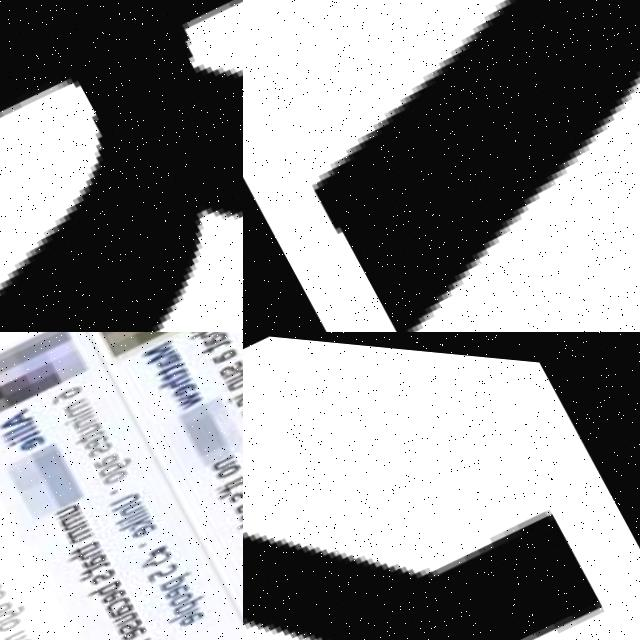1: (147, 553, 182, 580)
2: (49, 378, 82, 404)
A: (0, 401, 33, 433), (78, 543, 110, 570), (207, 336, 238, 363), (106, 593, 137, 618), (91, 443, 121, 467), (156, 344, 181, 365), (0, 592, 17, 618), (201, 332, 228, 342), (236, 390, 243, 416)
B: (87, 571, 123, 599)
C: (103, 587, 131, 610)
E: (118, 616, 149, 640), (18, 427, 47, 452), (168, 371, 197, 396), (99, 580, 128, 603), (161, 573, 190, 596), (177, 601, 205, 624), (131, 514, 158, 536), (81, 427, 108, 448), (3, 628, 35, 640)
G: (97, 447, 132, 475), (0, 598, 25, 625)
H: (67, 537, 102, 565), (159, 363, 192, 390), (189, 332, 223, 338)
I: (6, 424, 39, 447), (62, 402, 94, 425), (118, 503, 149, 525), (216, 464, 243, 485), (225, 376, 243, 398), (119, 628, 150, 640)
J: (243, 0, 640, 332)
K: (0, 0, 243, 332), (118, 506, 153, 533)
L: (166, 597, 199, 620), (2, 419, 35, 442), (114, 500, 146, 523), (1, 415, 32, 438)
M: (140, 332, 176, 361), (64, 515, 95, 543), (57, 504, 88, 531), (65, 392, 91, 415)
N: (210, 444, 238, 467), (70, 407, 97, 428), (120, 493, 145, 514), (2, 623, 27, 640), (224, 365, 243, 387), (232, 486, 243, 509)
O: (100, 461, 128, 484), (214, 452, 242, 475), (168, 581, 195, 603), (0, 610, 21, 632), (237, 494, 243, 517)
P: (159, 561, 195, 589), (173, 585, 207, 612)
S: (89, 561, 117, 584), (116, 611, 144, 634), (85, 434, 113, 457), (217, 350, 243, 372), (226, 474, 243, 497), (233, 380, 243, 402), (0, 584, 6, 606)
T: (68, 531, 100, 556), (73, 421, 105, 446), (79, 554, 110, 576), (158, 358, 187, 380), (219, 467, 243, 489), (157, 353, 183, 373), (201, 332, 229, 349), (122, 633, 152, 640), (236, 502, 243, 524)
U: (107, 483, 140, 510), (53, 496, 81, 519), (112, 602, 140, 625), (77, 415, 101, 434), (223, 357, 243, 377)
W: (174, 380, 205, 407)
Y: (243, 332, 640, 640)
